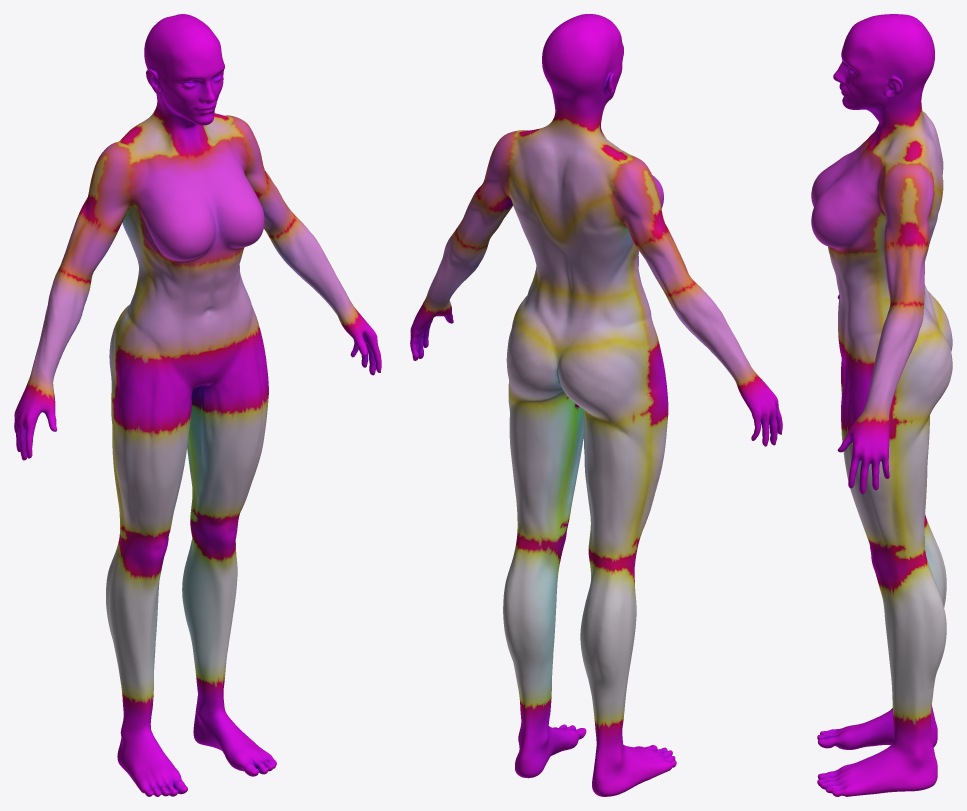
The model's file is body-female.glb.
3 views of the same model, side by side, from view 1: azimuth 30°, elevation 25°; view 2: azimuth 150°, elevation 25°; view 3: azimuth 270°, elevation 25° (orthographic).
Parts seen in each view (by area): view 1: body; view 2: body; view 3: body.
Boxes of the visible parts, left/top/right/bottom form: body: left=14, top=14, right=381, bottom=796; body: left=410, top=14, right=782, bottom=796; body: left=811, top=14, right=952, bottom=796.
Size of the model in its own units: 0.903 by 1.8 by 0.3072.
